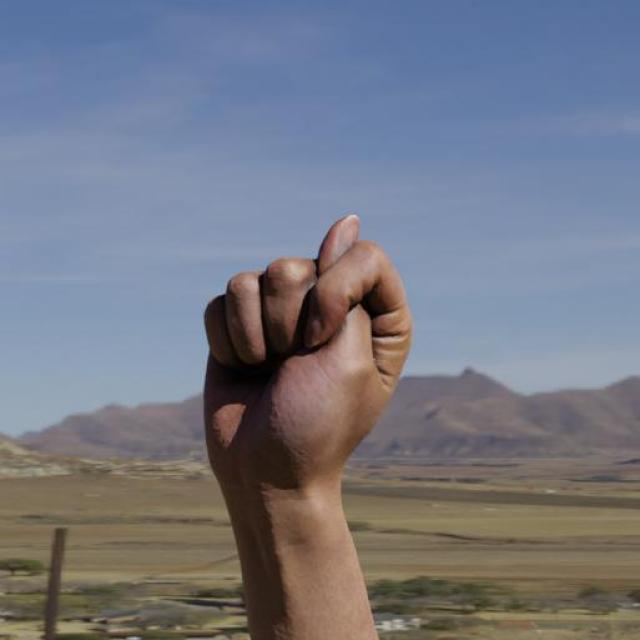T: (195, 210, 416, 490)
